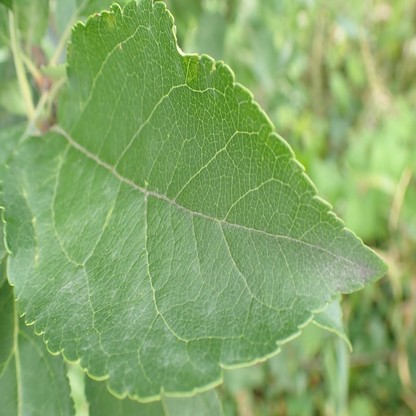powdery_mildew: (4, 2, 391, 401)
